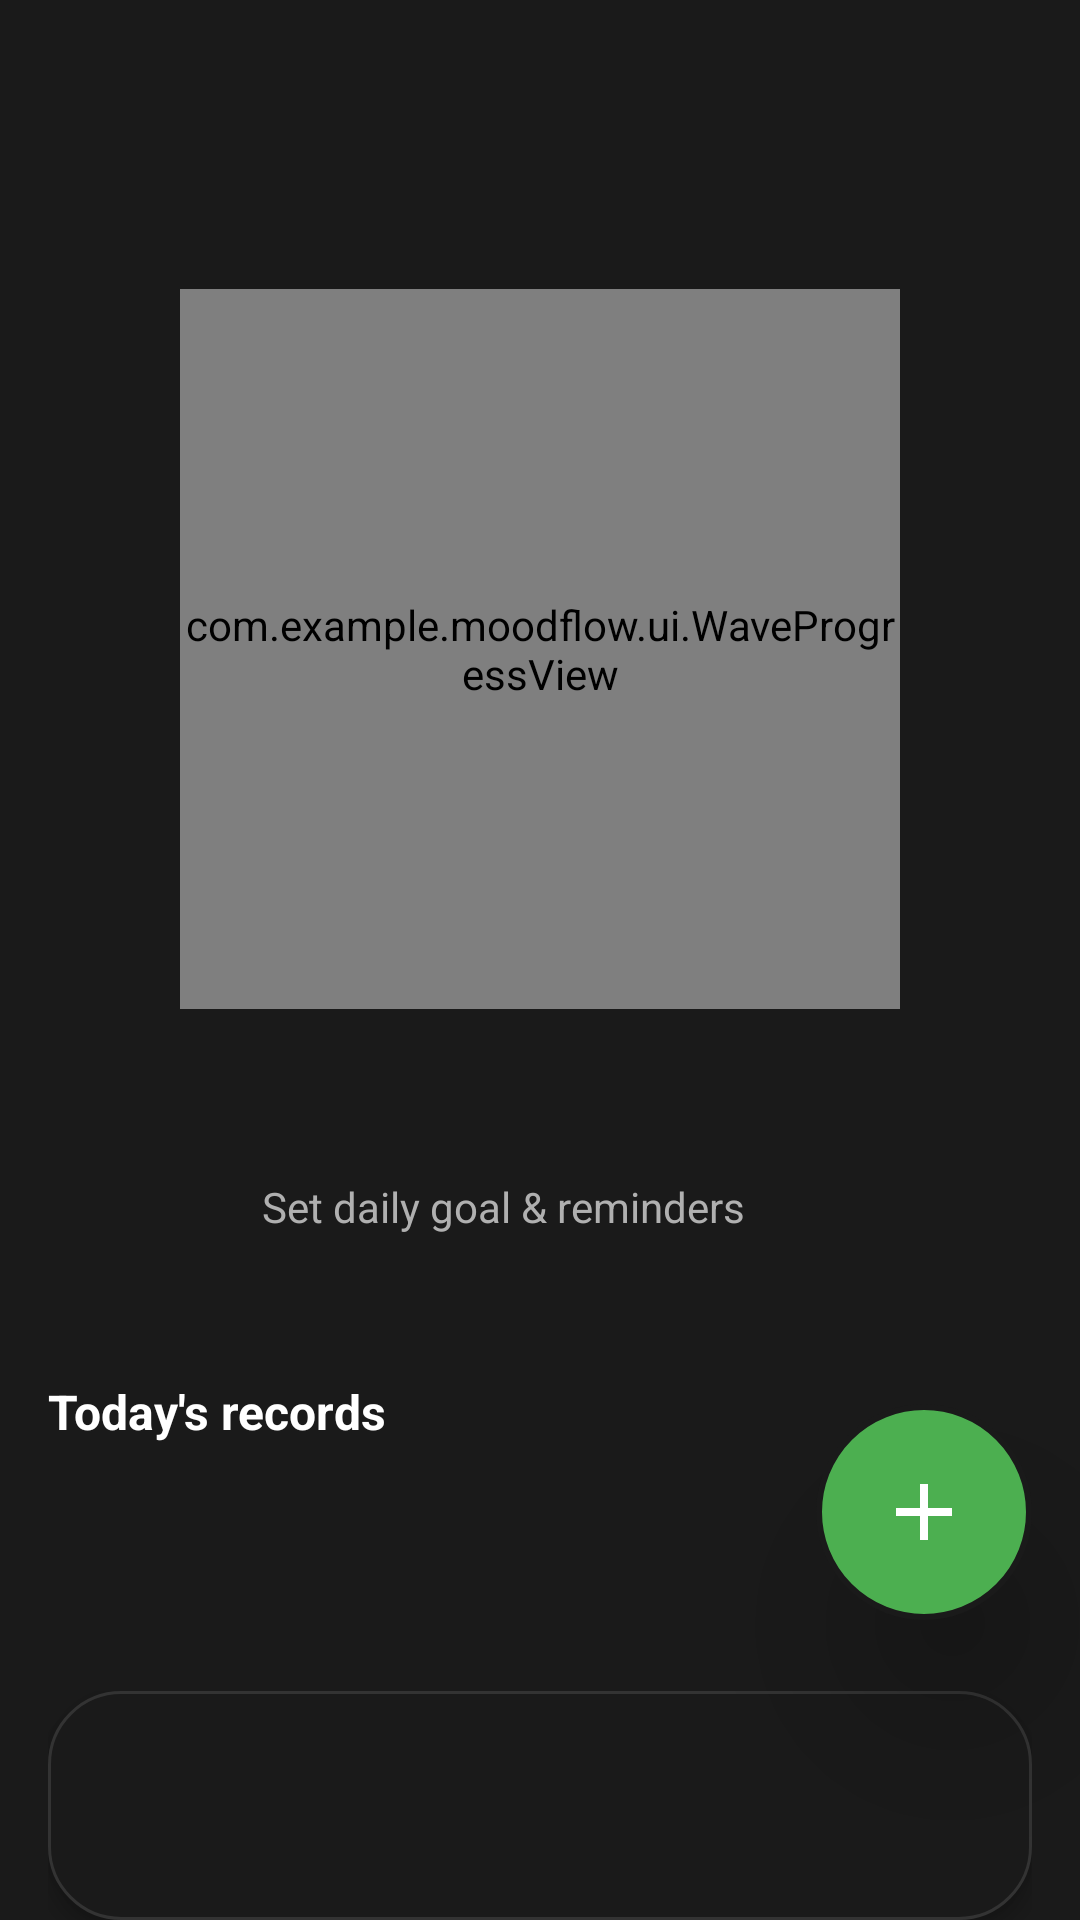

Screen size 1080x1920. Icon name, then its center in pixels as (x=x, y=y):
plus: (x=924, y=1512)
